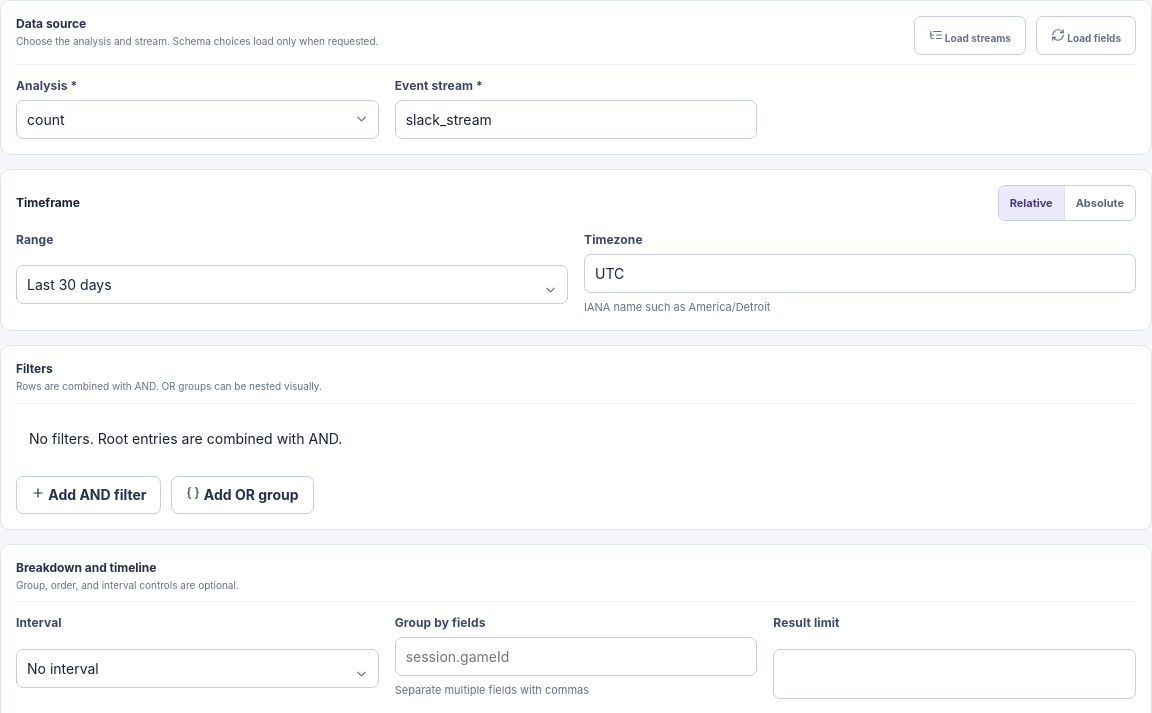
visual dashboard query builder › provides guided analysis, timeframe, filter, grouping, and funnel controls without a JSON editor
The width and height of the screenshot is (1152, 713).
Expected: the field labelled "Event stream *" holds "slack_stream", [395,100,757,138]
Expected: the text "Filters" is shown, [16,361,53,376]
Step 1. Select "funnel" in the dropdown labelled "Analysis *" → [197, 119], box [16,100,379,138]
(page scrolled)
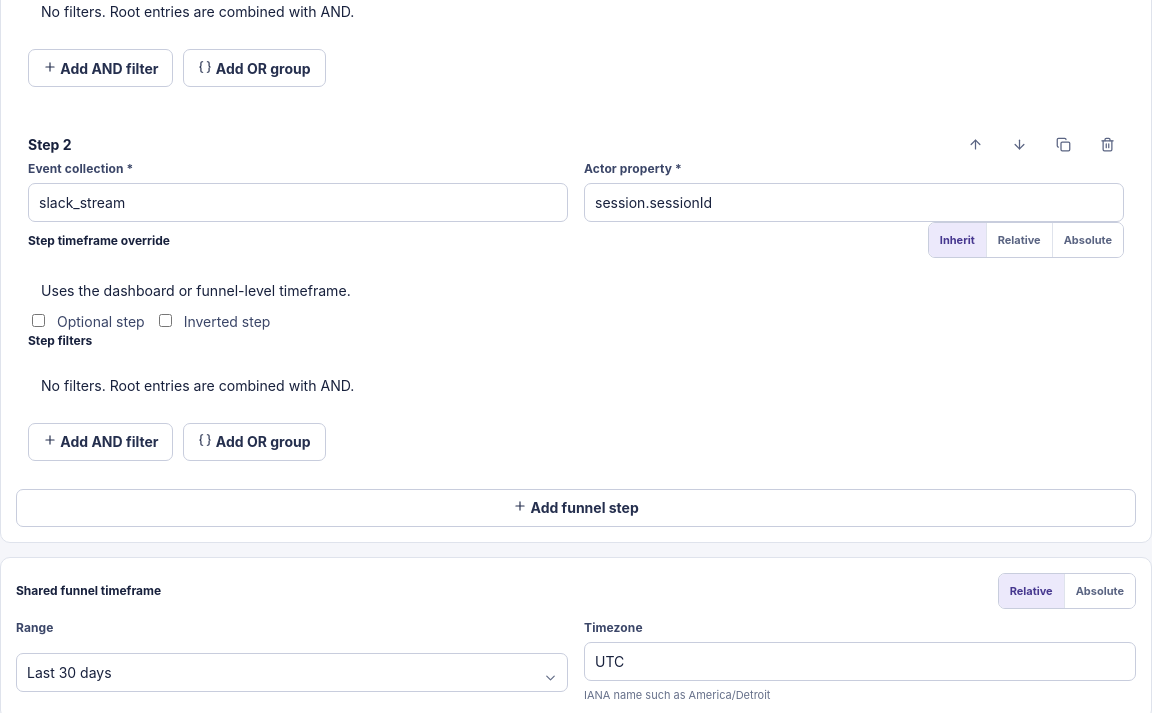
Expected: the button "Add funnel step" is shown, [16,489,1136,527]
